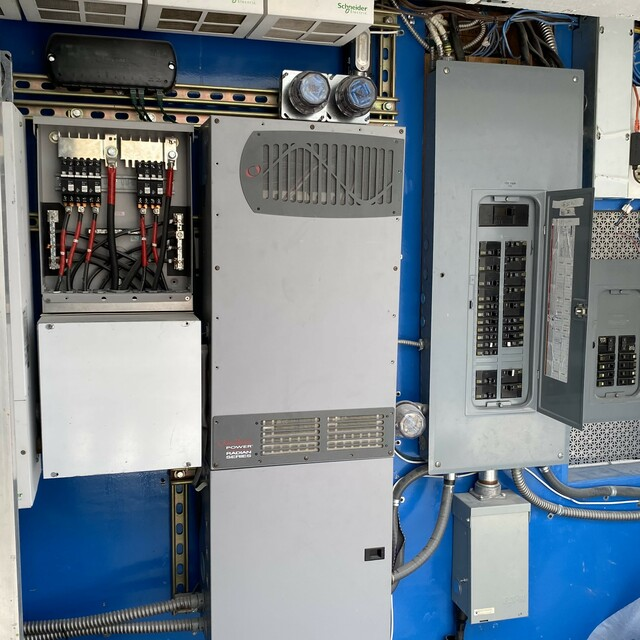inverter: (198, 100, 402, 639)
